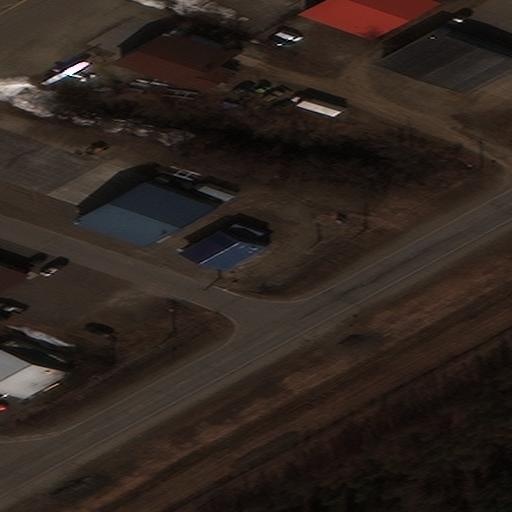Small Civil Transport: (41, 61, 85, 83)
